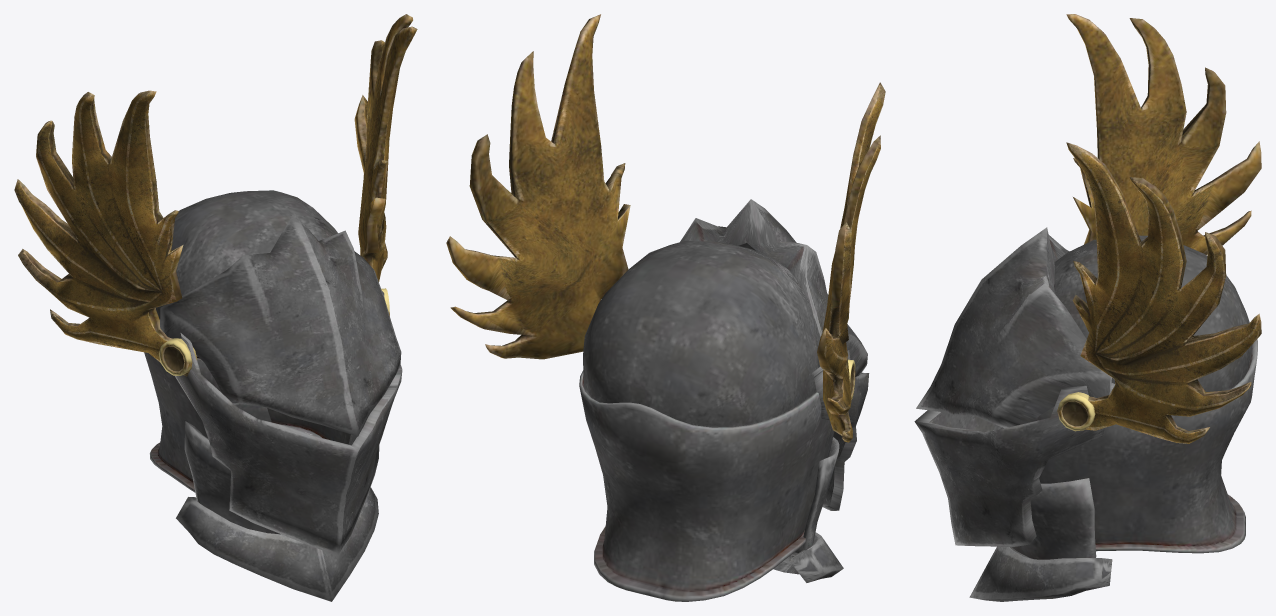
Rendered from knights-e30cc69af0fd.glb.
3 views of the same model, side by side, from view 1: azimuth 30°, elevation 25°; view 2: azimuth 150°, elevation 25°; view 3: azimuth 270°, elevation 25° (orthographic). The views are drawn at different scales.
Parts seen in each view (by area): view 1: Wings, Helm; view 2: Wings, Helm; view 3: Wings, Helm.
Part boxes in pixels (x1=…): Wings: x1=144, y1=190, x2=402, y2=601; Helm: x1=14, y1=14, x2=417, y2=376; Wings: x1=579, y1=199, x2=869, y2=601; Helm: x1=446, y1=14, x2=885, y2=442; Wings: x1=914, y1=227, x2=1257, y2=601; Helm: x1=1057, y1=14, x2=1261, y2=443.
Bounding box in the file's own units: 14.46 × 19.81 × 11.94.
Materials: 2 (2 with a texture image).
